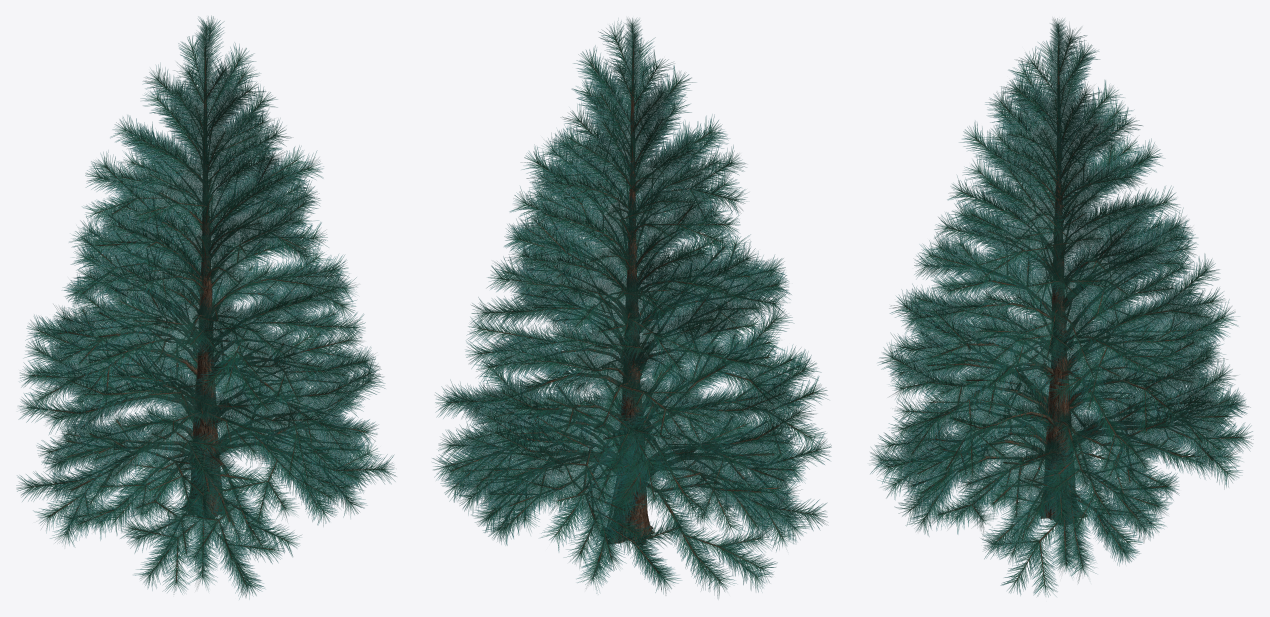
File: blue_spruce.glb
3 renders of one model, left to right at view 1: azimuth 30°, elevation 25°; view 2: azimuth 150°, elevation 25°; view 3: azimuth 270°, elevation 25°, orthographic. The views are drawn at different scales.
Parts seen in each view (by area): view 1: Object_2, Object_3; view 2: Object_2, Object_3; view 3: Object_2, Object_3.
Boxes of the visible parts, <box> form: Object_2: <box>16,16,396,599</box>; Object_3: <box>32,47,365,583</box>; Object_2: <box>432,18,831,598</box>; Object_3: <box>446,48,813,573</box>; Object_2: <box>870,18,1253,596</box>; Object_3: <box>890,44,1240,581</box>.
Size of the model in its own units: 2.63 by 4 by 2.65.
Materials: 2 (2 with a texture image).
